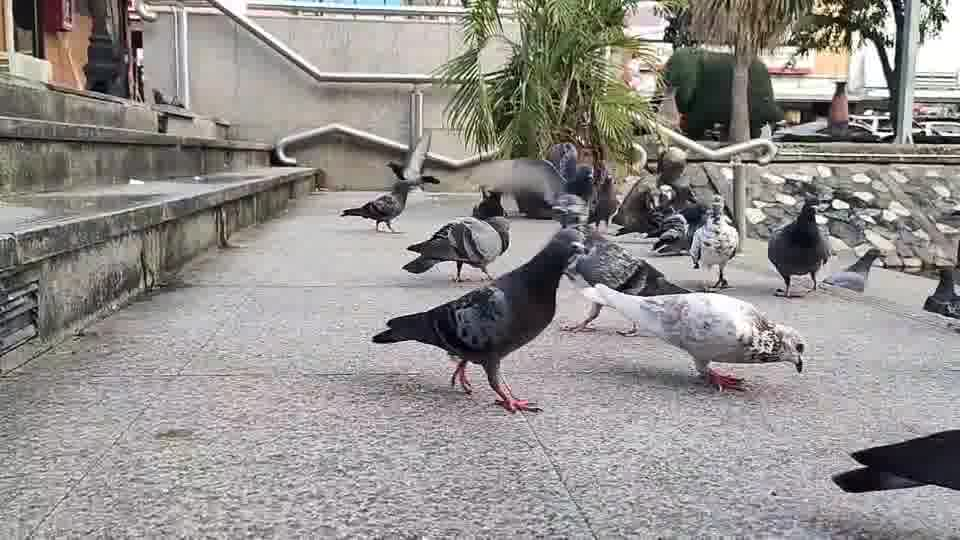Pigeon: (371, 224, 587, 414), (579, 280, 805, 392), (560, 236, 693, 334), (830, 427, 959, 494), (401, 214, 511, 283), (766, 201, 832, 297), (688, 194, 739, 291), (337, 178, 411, 233), (384, 134, 440, 191), (818, 247, 885, 293), (922, 266, 959, 319)
